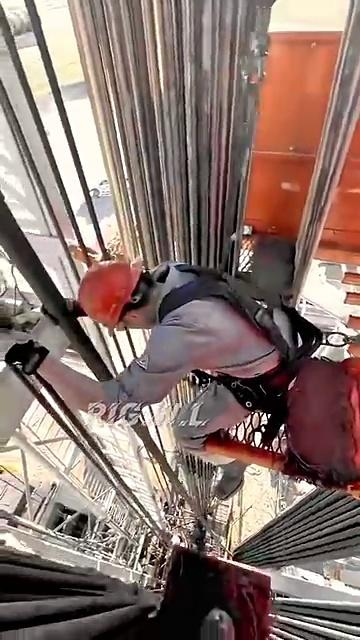gloves: (12, 330, 65, 383)
helmet: (70, 247, 145, 337)
shoes: (207, 442, 277, 513)
worker: (42, 222, 317, 570)
